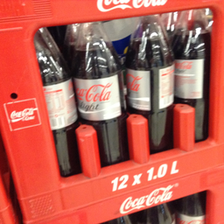soda: (74, 22, 129, 165), (125, 15, 175, 155), (34, 27, 78, 178), (171, 10, 208, 142)
